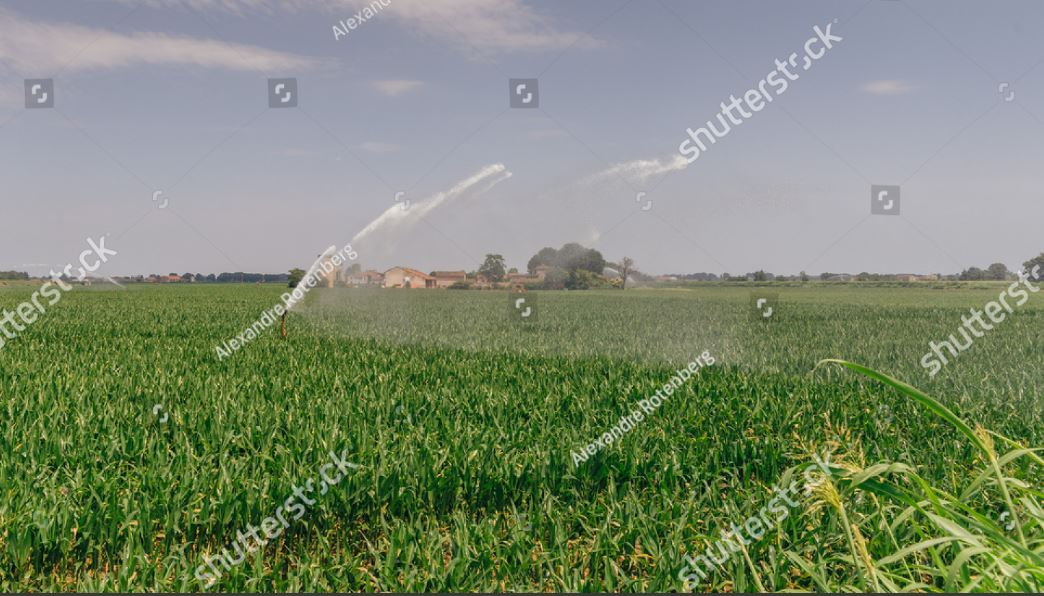Wheat: (37, 411, 667, 578)
